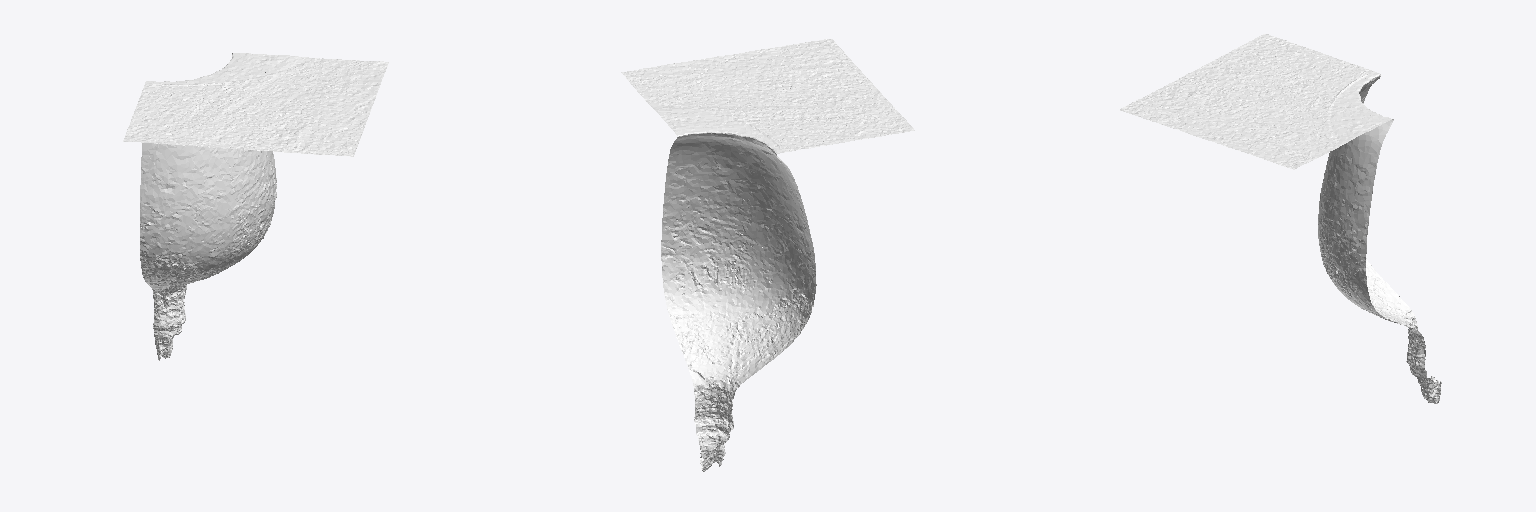
File: tile_2_2.obj
The picture shows the model from 3 angles: view 1: azimuth 30°, elevation 25°; view 2: azimuth 150°, elevation 25°; view 3: azimuth 270°, elevation 25°; orthographic projection.
Visible parts, largest first — view 1: texture_0; view 2: texture_0; view 3: texture_0.
Boxes of the visible parts, <box> form: texture_0: <box>123,53,388,360</box>; texture_0: <box>621,39,914,471</box>; texture_0: <box>1120,34,1441,403</box>.
Bounding box in the file's own units: 0.508 × 0.5375 × 0.5071.